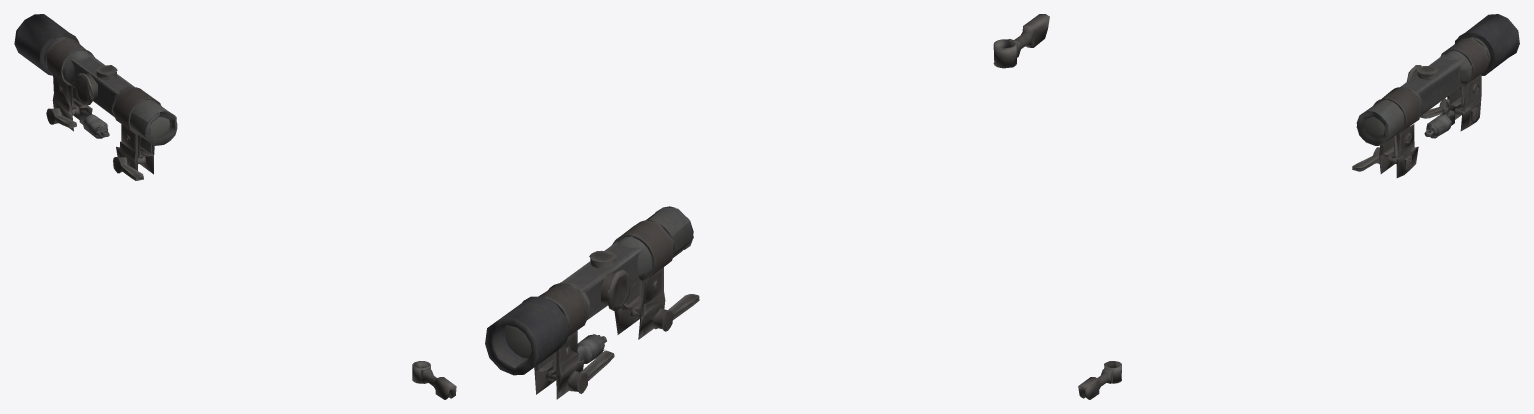
Rendered from ScopeFG42.fbx.
The picture shows the model from 3 angles, left to right: view 1: azimuth 30°, elevation 25°; view 2: azimuth 150°, elevation 25°; view 3: azimuth 330°, elevation 25°; orthographic projection. The views are drawn at different scales.
Visible parts, largest first — view 1: Scope.001; view 2: Scope.001; view 3: Scope.001.
Boxes of the visible parts, x1=… form: Scope.001: x1=14, y1=14, x2=456, y2=399; Scope.001: x1=485, y1=14, x2=1049, y2=399; Scope.001: x1=1078, y1=14, x2=1519, y2=399.
Bounding box in the file's own units: 0.0238 × 0.0433 × 0.3915.
